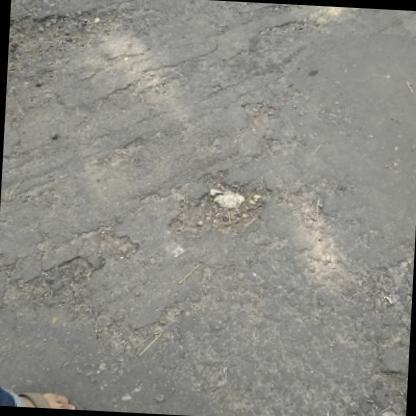pothole: (0, 8, 128, 84), (168, 181, 276, 234), (8, 252, 101, 306), (241, 98, 276, 131)
